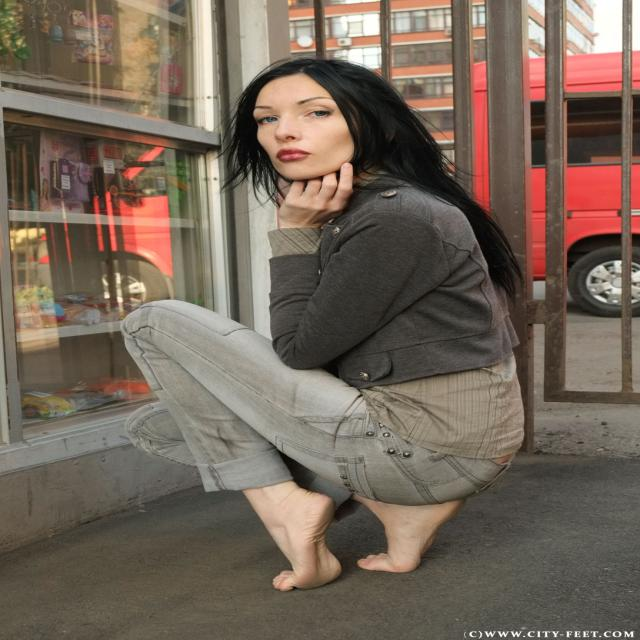No Safety Boots: (357, 489, 466, 573), (272, 491, 342, 591)
